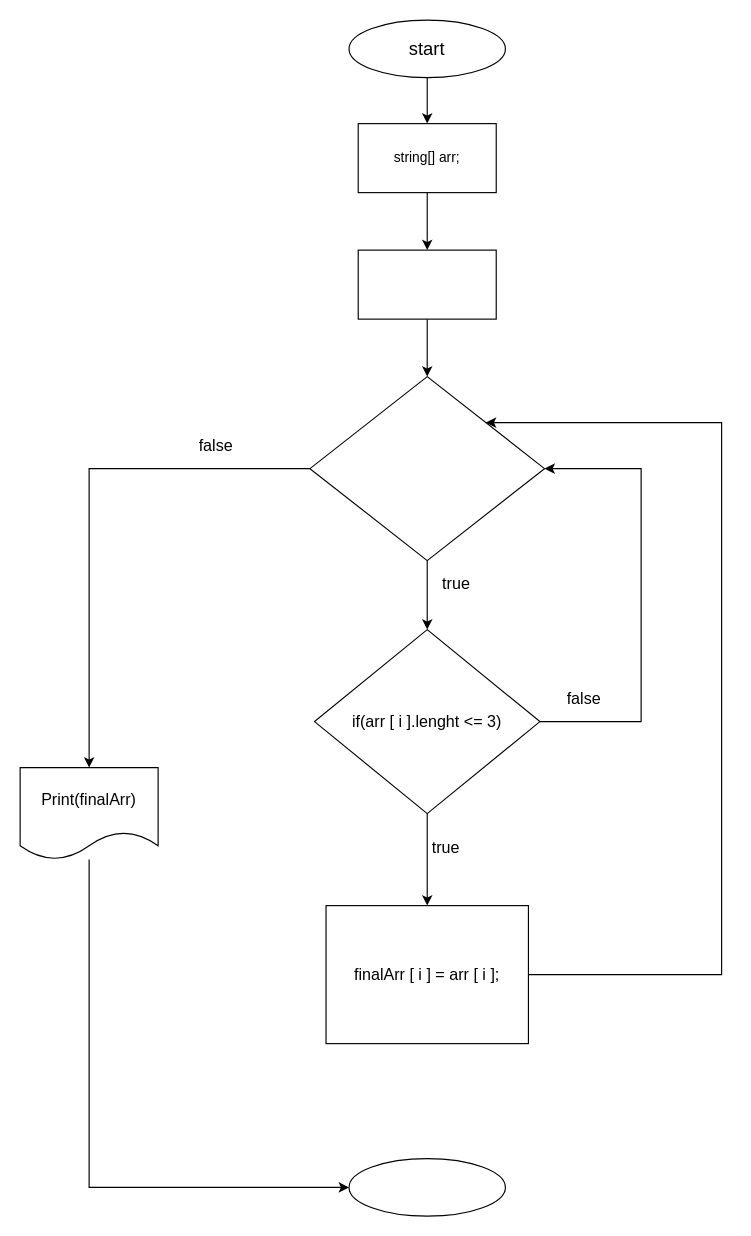
Image size: 751x1236. Some labels were removed from this diagram. The shapes that lost their labels are listed below. From the top down, each one's centre as x and y in pixels, then its label:
At (426,284): "string[] finalArr;".
At (427,468): "for(int i = 0; arr.lenght < i; i++".
At (426,1186): "finish".
